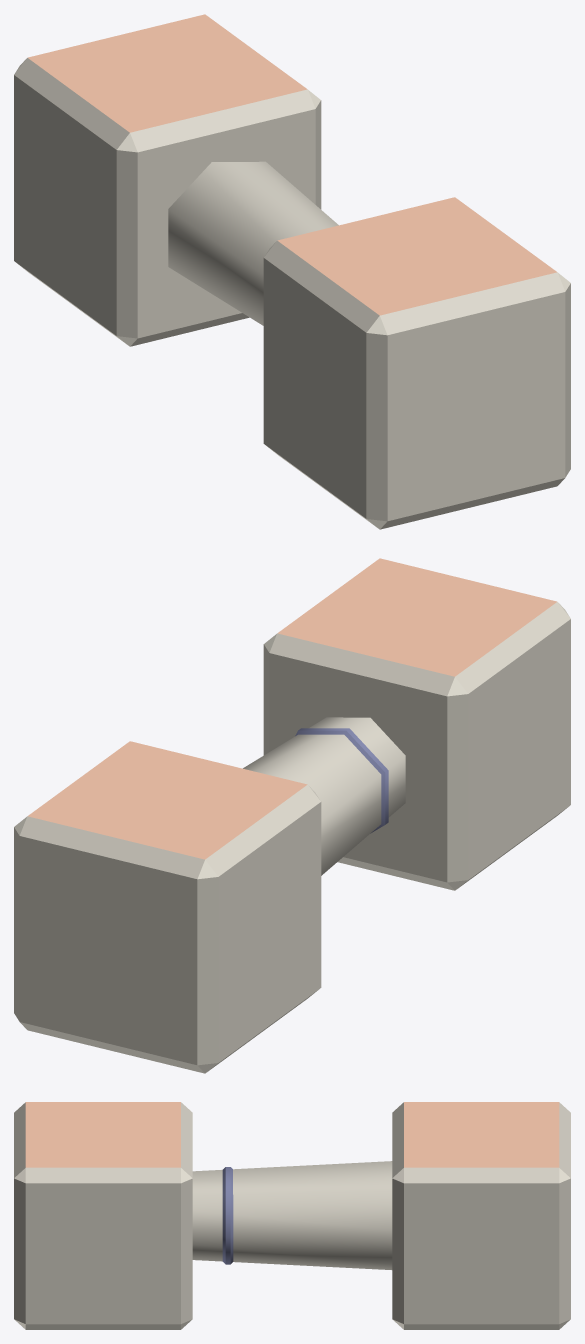
The model's file is R4C_STRUT_STANDARD_LOD1.fbx.
The picture shows the model from 3 angles, top to bottom: view 1: azimuth 30°, elevation 25°; view 2: azimuth 150°, elevation 25°; view 3: azimuth 270°, elevation 25°; orthographic projection. The views are drawn at different scales.
Visible parts, largest first — view 1: R4C_STRUT_STANDARD_LOD1; view 2: R4C_STRUT_STANDARD_LOD1; view 3: R4C_STRUT_STANDARD_LOD1.
Boxes of the visible parts, box(x1,y1,x2,y2) form: R4C_STRUT_STANDARD_LOD1: box(14, 14, 570, 529); R4C_STRUT_STANDARD_LOD1: box(14, 558, 570, 1073); R4C_STRUT_STANDARD_LOD1: box(14, 1102, 570, 1329).
Bounding box in the file's own units: 0.52 × 0.52 × 1.62.
